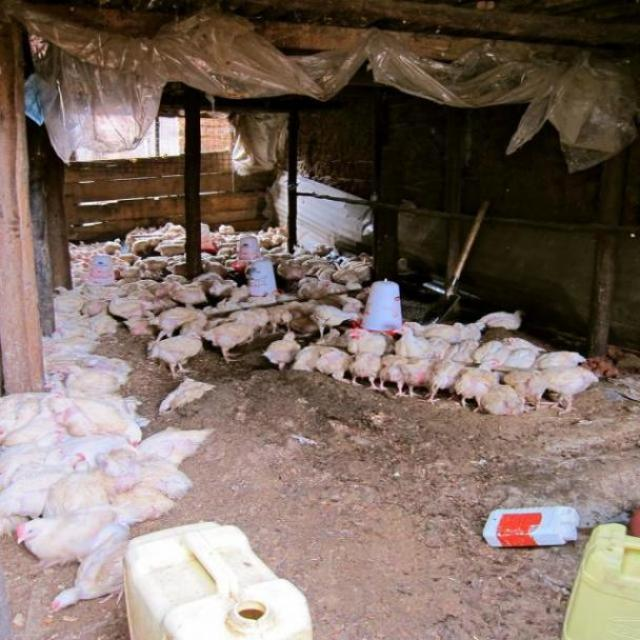Chicken: (35, 223, 610, 430), (0, 386, 196, 620), (131, 425, 210, 469), (155, 329, 221, 380)
